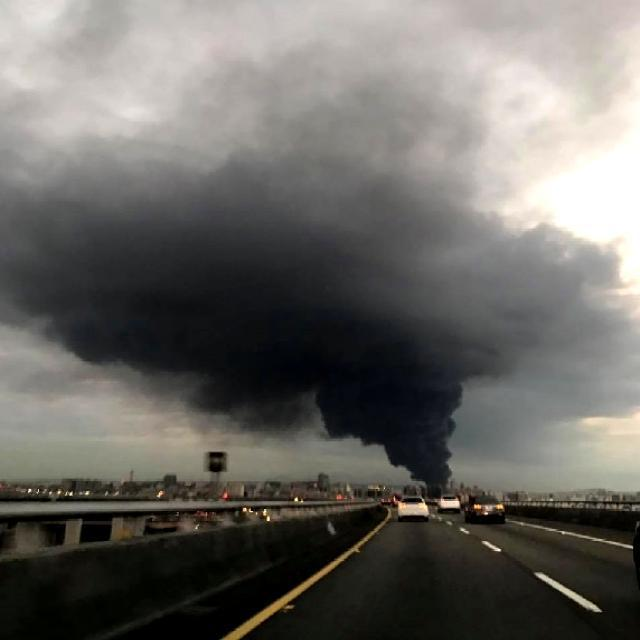Smoke: (0, 0, 576, 486)
